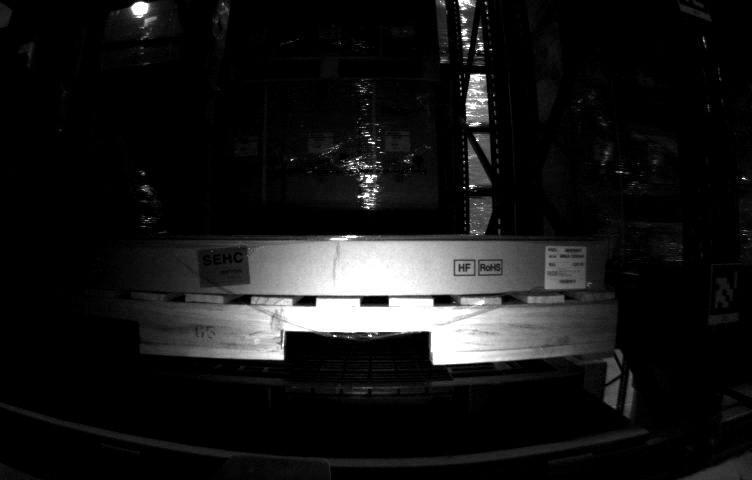True Barcode: (545, 244, 586, 289)
